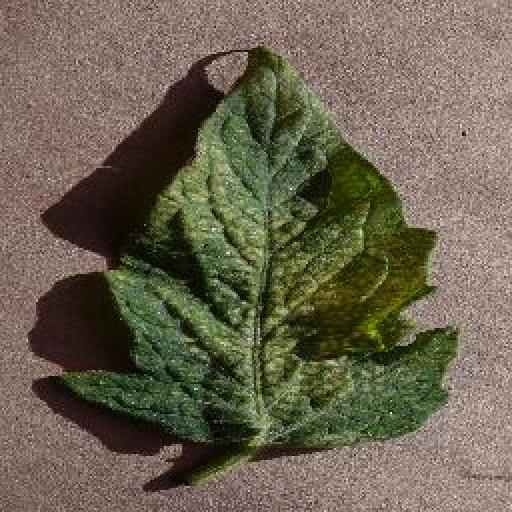disease_tomato: (60, 44, 462, 452)
